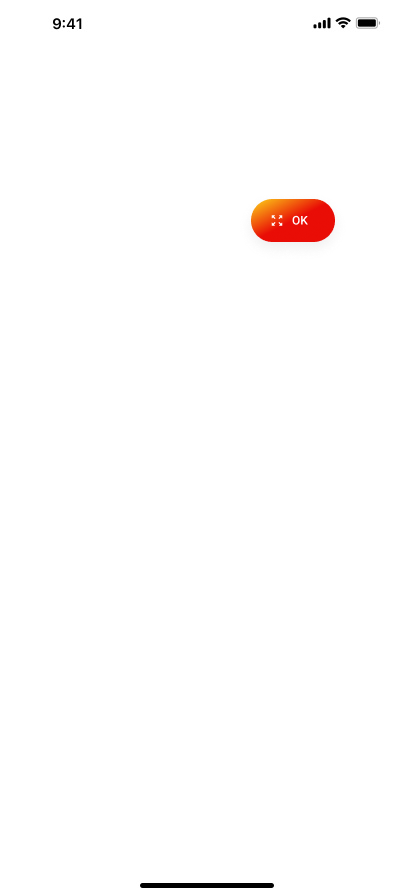Buttons: (236, 190, 350, 263)
Home Indicator: (0, 862, 414, 896)
Status Bar: (0, 0, 414, 44)
